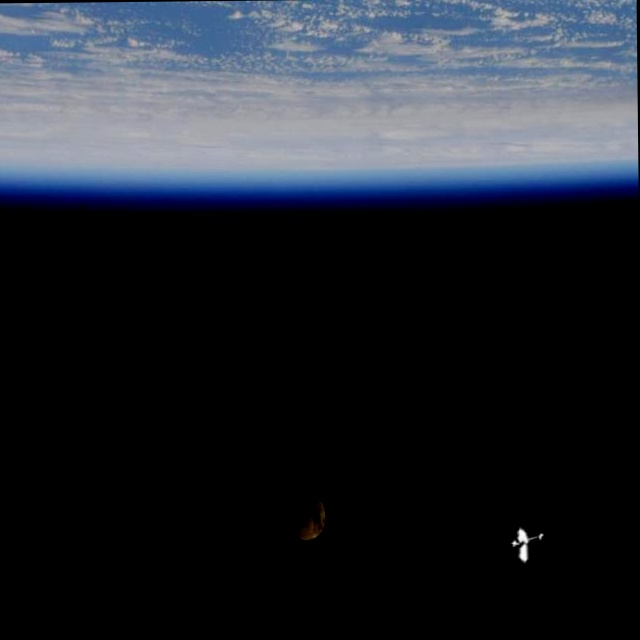satellite: (499, 516, 552, 579)
